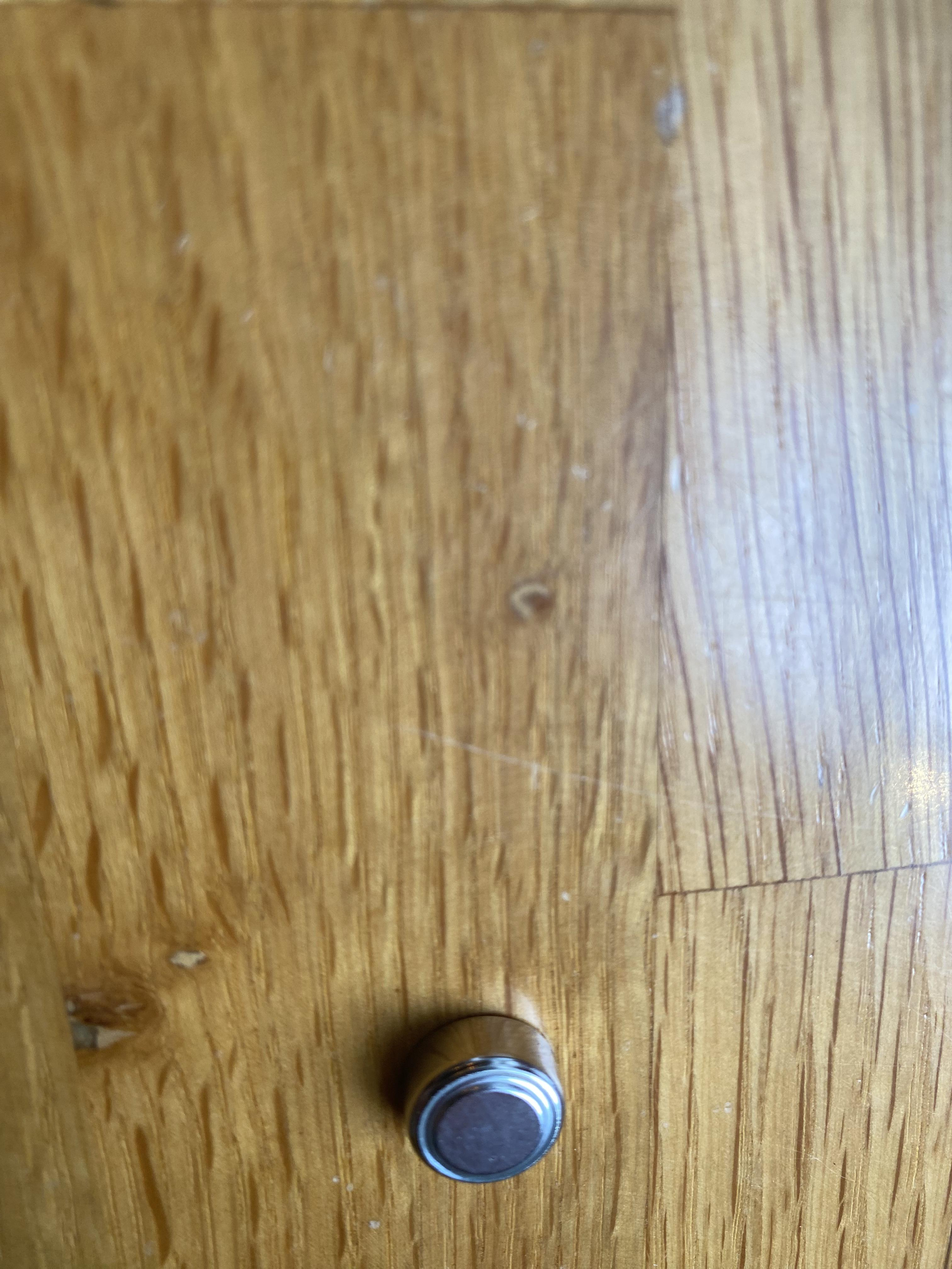COIN: (398, 1012, 567, 1185)
